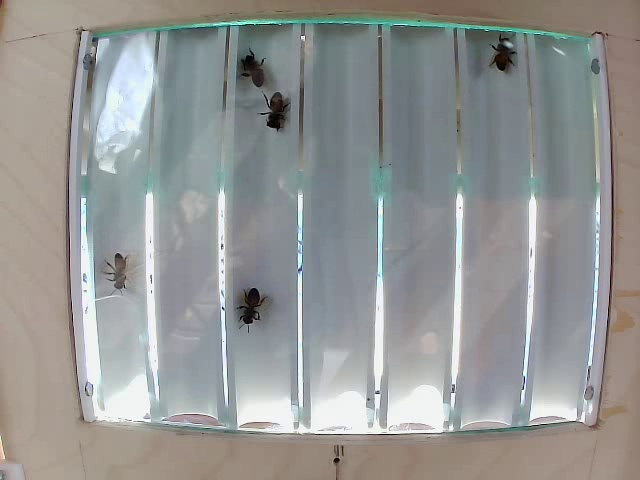bee: (262, 97, 291, 139), (235, 53, 267, 90), (486, 31, 512, 69), (98, 254, 129, 281), (238, 293, 262, 324)
